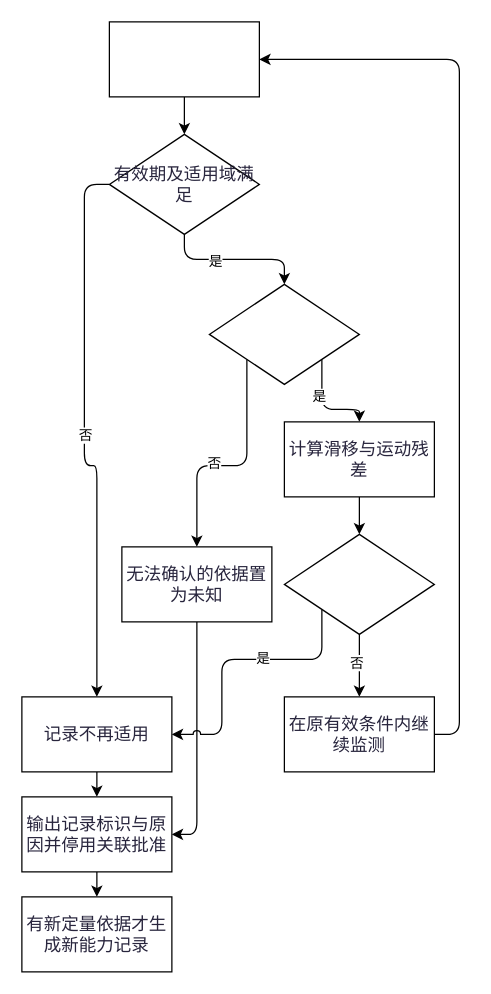
Image size: 491x994. Some labels were removed from this diagram. Each missing label, with the centre of its shape:
数据健康及模型适用: (x=283, y=333)
满足持续或快速失效判据: (x=358, y=583)
能力记录与时序对齐观测: (x=183, y=59)
